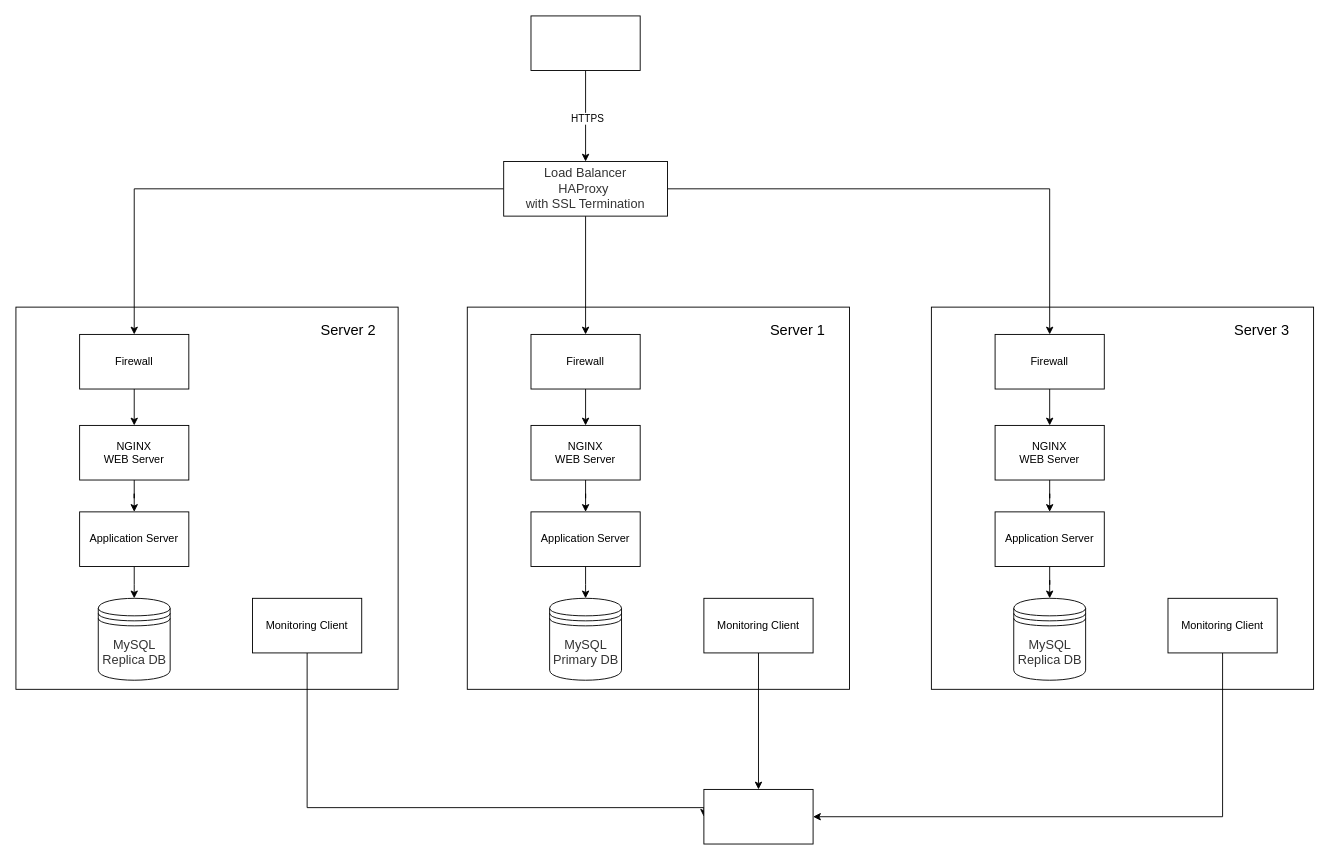
Image size: 1330x860. Some labels were removed from this diagram. The shapes that lost their labels are listed below. From the top down, each one's centre as x and y in pixels, then its label:
At point (585, 43): "User Browser".
At point (758, 816): "Monitoring System SumoLogic".
